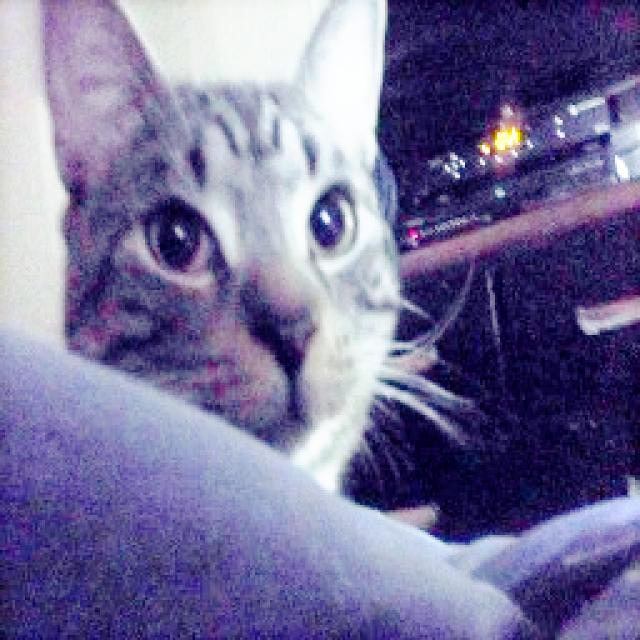cat: (28, 0, 468, 523)
